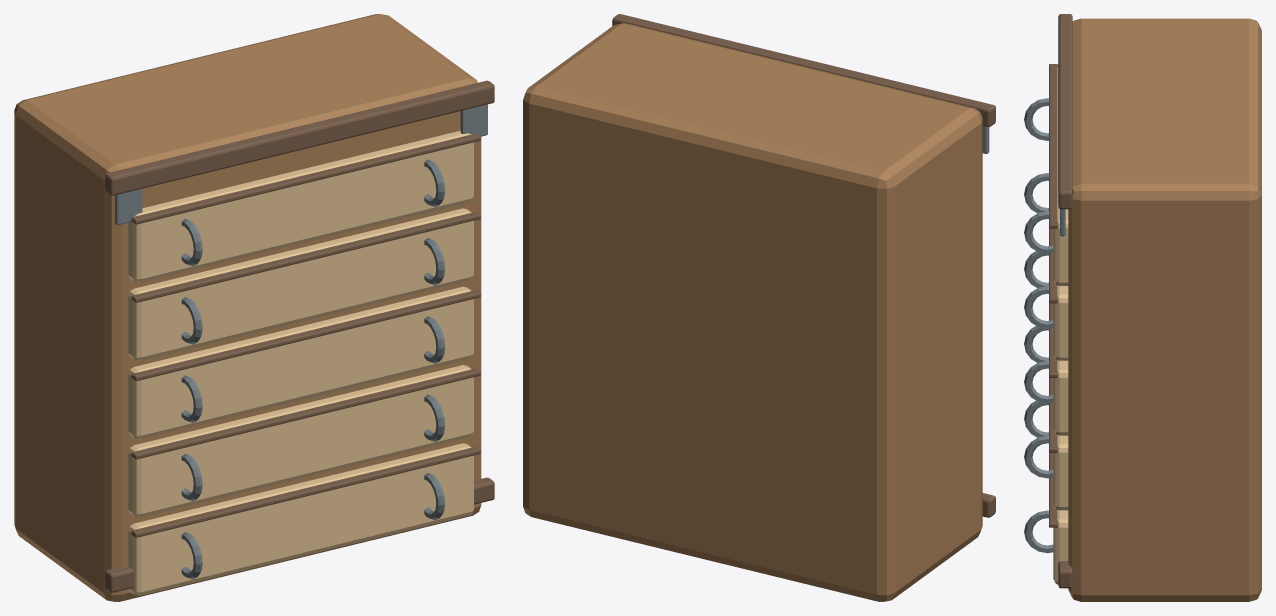
Rendered from woodwork_tansu.glb.
3 views of the same model, side by side, from view 1: azimuth 30°, elevation 25°; view 2: azimuth 150°, elevation 25°; view 3: azimuth 270°, elevation 25° (orthographic). The views are drawn at different scales.
Parts seen in each view (by area): view 1: Tansu constructed solid wooden carcass, Individual removable tansu drawer.002, Individual removable tansu drawer.001, Individual removable tansu drawer.003, Individual removable tansu drawer.004, Individual removable tansu drawer, Tansu endgrain frame.001, Drawer top joinery lip, Drawer top joinery lip.003, Drawer top joinery lip.004, Drawer top joinery lip.002, Drawer top joinery lip.001 (+3 smaller); view 2: Tansu constructed solid wooden carcass, Tansu endgrain frame.001; view 3: Tansu constructed solid wooden carcass, Tansu endgrain frame.001, Drawer top joinery lip.004, Individual removable tansu drawer.004, Individual removable tansu drawer.002, Individual removable tansu drawer.001, Individual removable tansu drawer.003, Individual removable tansu drawer, Forged circular drawer pull.009, Forged circular drawer pull.007, Forged circular drawer pull.005, Forged circular drawer pull.003 (+11 smaller).
Part boxes in pixels (bbox=[...]): Tansu constructed solid wooden carcass: bbox=[14, 14, 481, 601]; Individual removable tansu drawer.002: bbox=[128, 286, 473, 439]; Individual removable tansu drawer.001: bbox=[128, 365, 473, 517]; Individual removable tansu drawer.003: bbox=[128, 208, 473, 360]; Individual removable tansu drawer.004: bbox=[128, 130, 473, 282]; Individual removable tansu drawer: bbox=[128, 443, 473, 595]; Tansu endgrain frame.001: bbox=[105, 80, 494, 195]; Drawer top joinery lip: bbox=[131, 446, 480, 537]; Drawer top joinery lip.003: bbox=[131, 211, 480, 302]; Drawer top joinery lip.004: bbox=[131, 133, 480, 224]; Drawer top joinery lip.002: bbox=[131, 290, 480, 380]; Drawer top joinery lip.001: bbox=[131, 368, 480, 459]; Tansu constructed solid wooden carcass: bbox=[523, 23, 982, 601]; Tansu endgrain frame.001: bbox=[612, 14, 995, 127]; Tansu constructed solid wooden carcass: bbox=[1068, 18, 1261, 601]; Tansu endgrain frame.001: bbox=[1058, 14, 1072, 209]; Drawer top joinery lip.004: bbox=[1049, 64, 1058, 228]; Individual removable tansu drawer.004: bbox=[1053, 67, 1068, 285]; Individual removable tansu drawer.002: bbox=[1053, 360, 1068, 435]; Individual removable tansu drawer.001: bbox=[1053, 435, 1068, 510]; Individual removable tansu drawer.003: bbox=[1053, 285, 1068, 360]; Individual removable tansu drawer: bbox=[1053, 509, 1068, 584]; Forged circular drawer pull.009: bbox=[1024, 211, 1053, 253]; Forged circular drawer pull.007: bbox=[1024, 286, 1053, 328]; Forged circular drawer pull.005: bbox=[1024, 361, 1053, 403]; Forged circular drawer pull.003: bbox=[1024, 435, 1053, 478].
Bounding box in the file's own units: 1.79 × 1.95 × 1.01.
